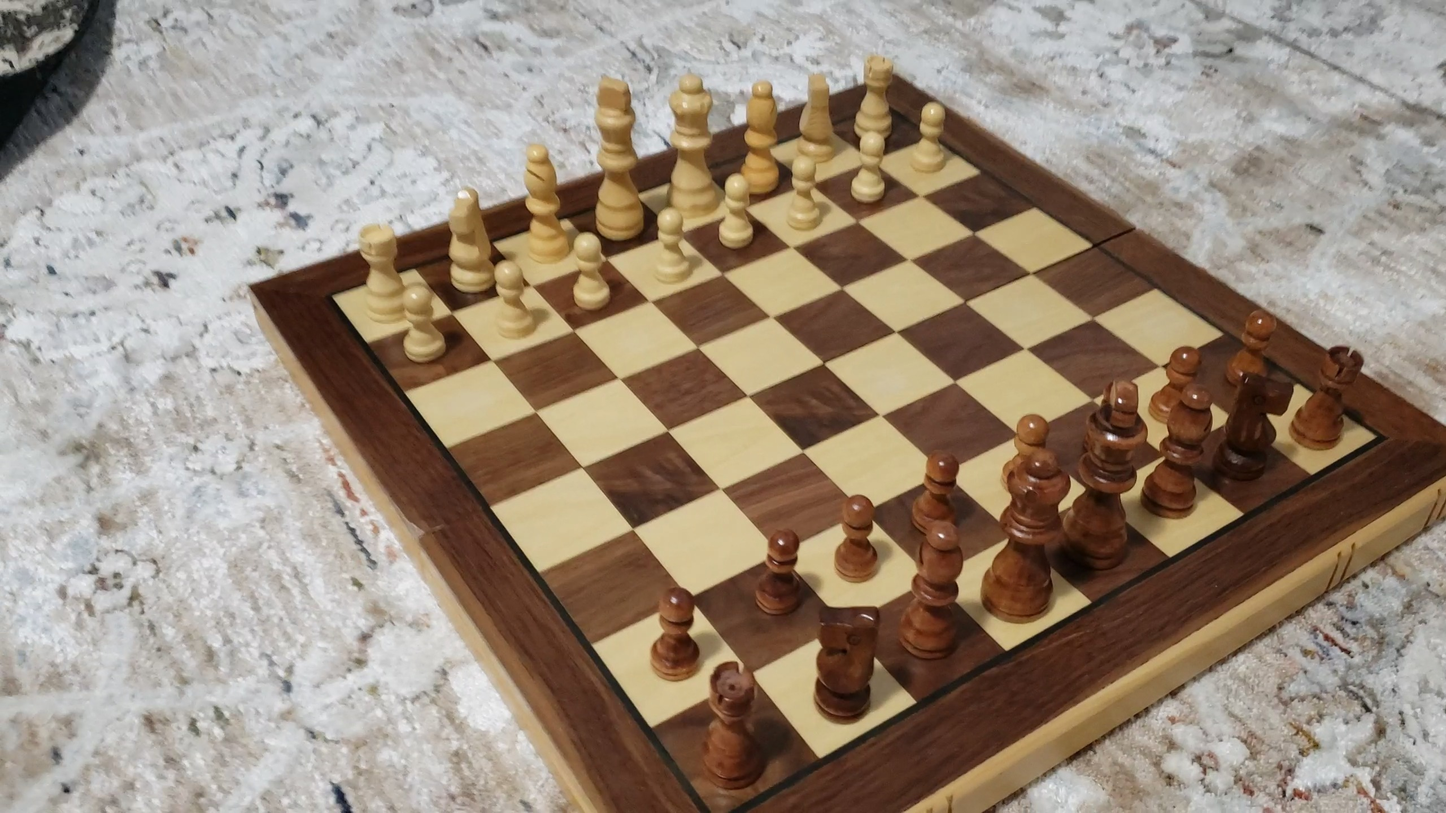black-bishop: (1142, 383, 1223, 520), (903, 519, 965, 659)
black-king: (1061, 375, 1152, 571)
black-knight: (1211, 366, 1288, 480), (811, 603, 880, 723)
black-pawn: (648, 583, 703, 685), (1148, 342, 1205, 428), (1225, 305, 1282, 390), (911, 448, 963, 541), (999, 410, 1052, 499), (752, 526, 803, 617), (833, 491, 881, 584)
black-queen: (978, 447, 1075, 626)
black-rook: (700, 659, 764, 792), (1290, 342, 1366, 452)
white-bishop: (519, 138, 570, 269), (739, 76, 783, 202)
white-king: (590, 67, 645, 244)
white-knight: (445, 183, 495, 298), (798, 66, 836, 165)
white-pawn: (394, 280, 455, 369), (484, 255, 540, 346), (644, 203, 699, 291), (777, 148, 830, 237), (565, 229, 617, 316), (843, 121, 893, 209), (711, 169, 760, 255), (904, 97, 955, 178)
white-queen: (667, 68, 717, 218)
white-rook: (354, 218, 408, 326), (857, 50, 897, 151)
